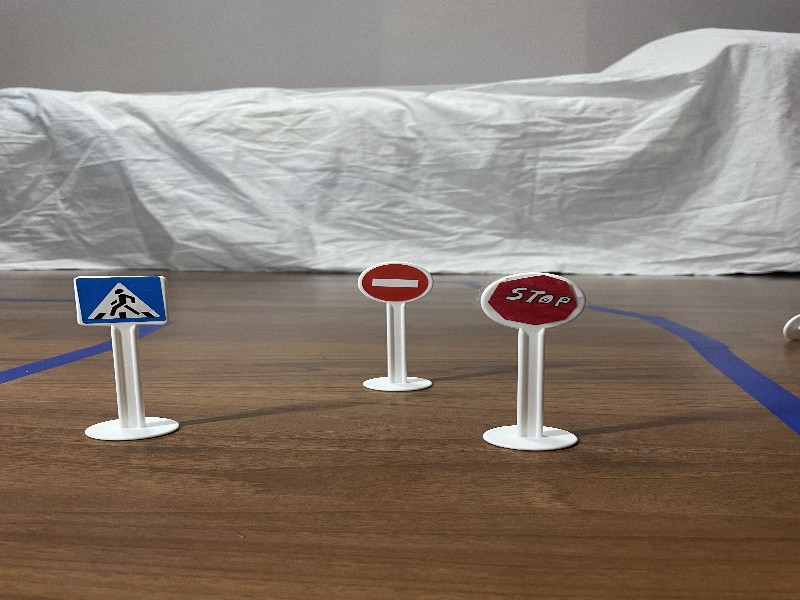interzis: (353, 251, 438, 310)
stop: (472, 261, 594, 339)
trecere_pietoni: (69, 272, 173, 329)
